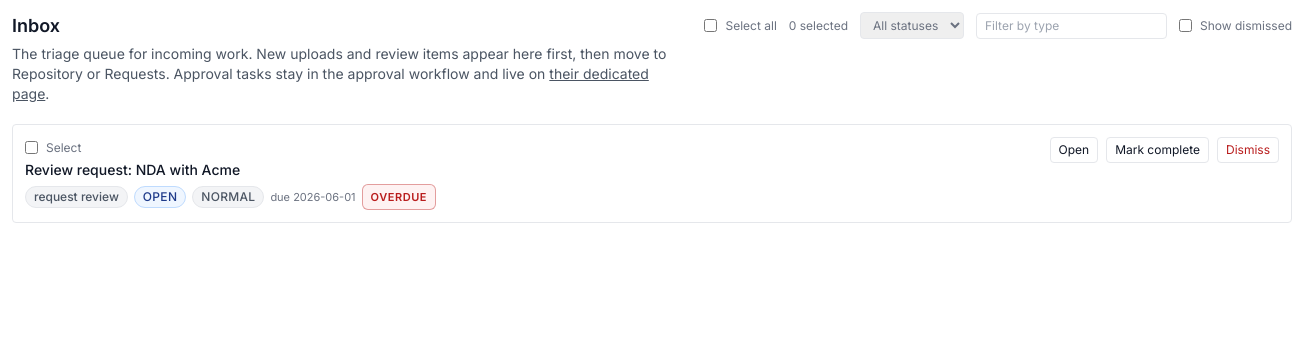
InboxPage › supports row selection, selected count, and clear selection
Expected: the link "Review request: NDA with Acme" is shown, [25,160,240,178]
Click the checkbox with test id "inbox-row-checkbox" at {"x": 32, "y": 148}, box [25,141,38,154]
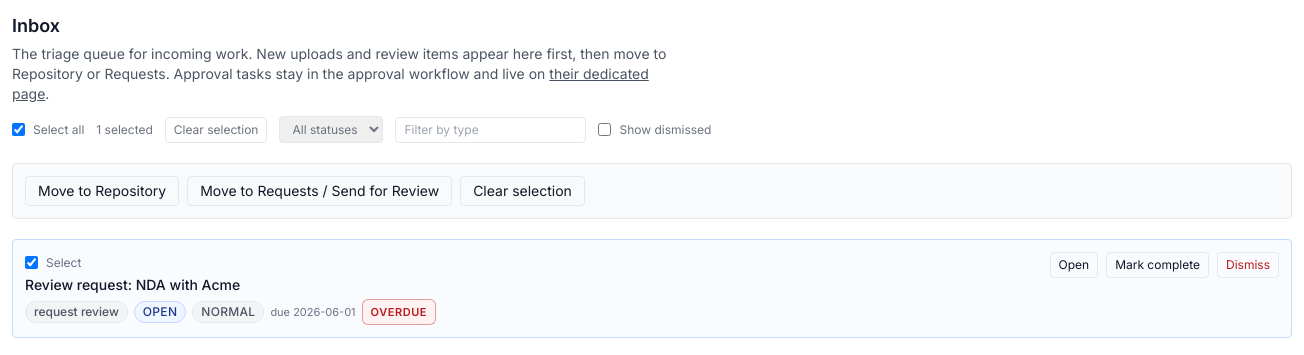
Expected: the text with test id "inbox-selected-count" reads "1 selected", [96,122,153,138]
Expected: the element with test id "inbox-bulk-actions" is shown, [12,163,1292,219]
Click the button with test id "inbox-clear-selection" at {"x": 522, "y": 191}, box [460,176,585,206]
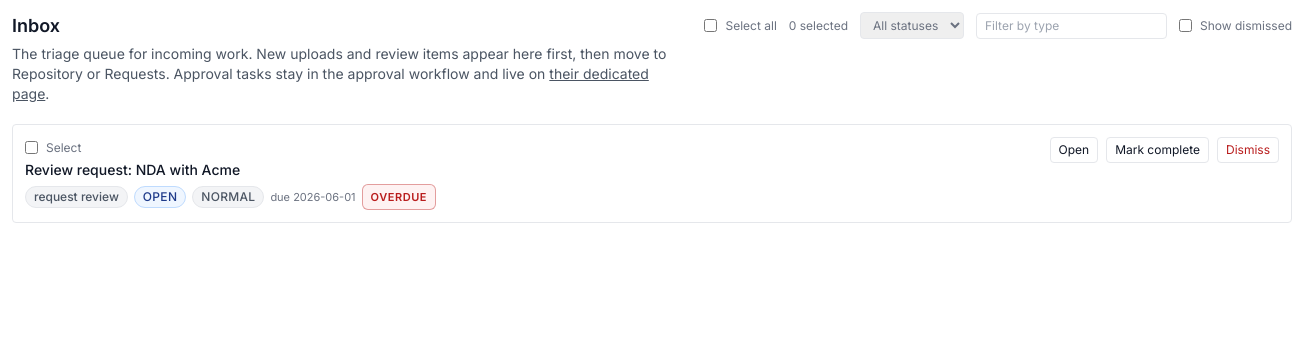
Expected: the text with test id "inbox-selected-count" reads "0 selected", [789,18,848,34]
Expected: the element with test id "inbox-bulk-actions" is gone
